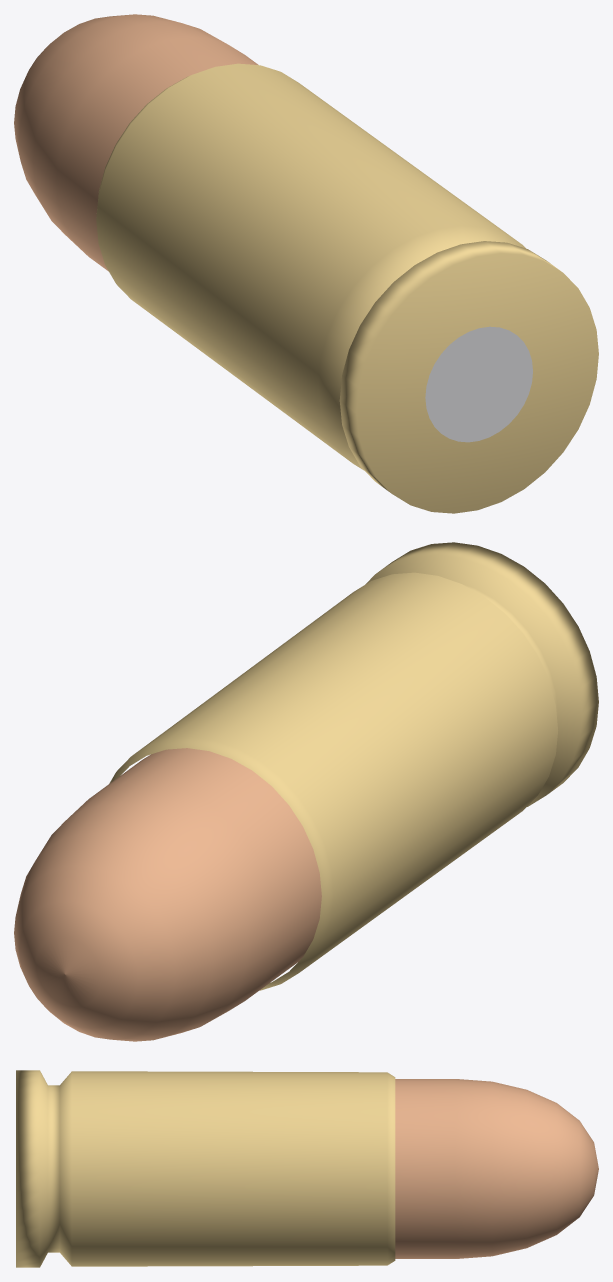
File: bullet.glb
3 views of the same model, one above another, from view 1: azimuth 30°, elevation 25°; view 2: azimuth 150°, elevation 25°; view 3: azimuth 270°, elevation 25° (orthographic). The views are drawn at different scales.
Visible parts, largest first — view 1: Cartridge, Bullet; view 2: Cartridge, Bullet; view 3: Cartridge, Bullet.
Part boxes in pixels (left/top/right/bottom): Cartridge: left=96, top=63, right=598, bottom=513; Bullet: left=14, top=14, right=258, bottom=271; Cartridge: left=109, top=542, right=598, bottom=990; Bullet: left=14, top=748, right=321, bottom=1041; Cartridge: left=16, top=1070, right=395, bottom=1267; Bullet: left=395, top=1079, right=598, bottom=1258.
Size of the model in its own units: 0.0099 by 0.0099 by 0.0293.
